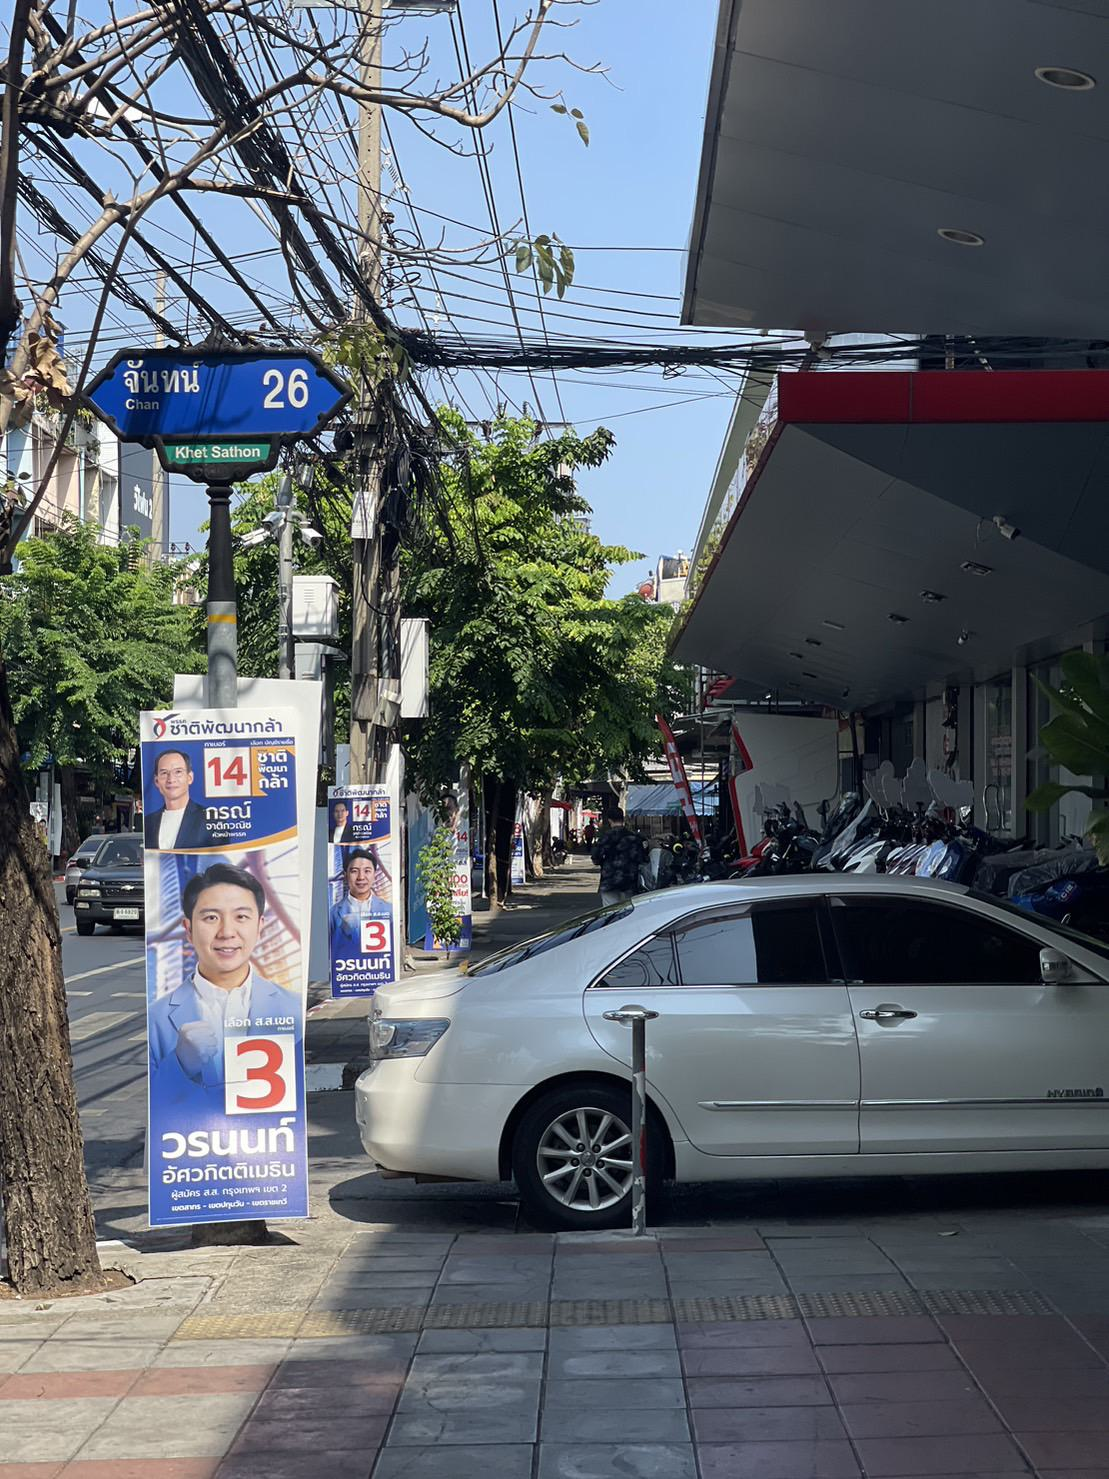Banner: (137, 691, 318, 1250)
